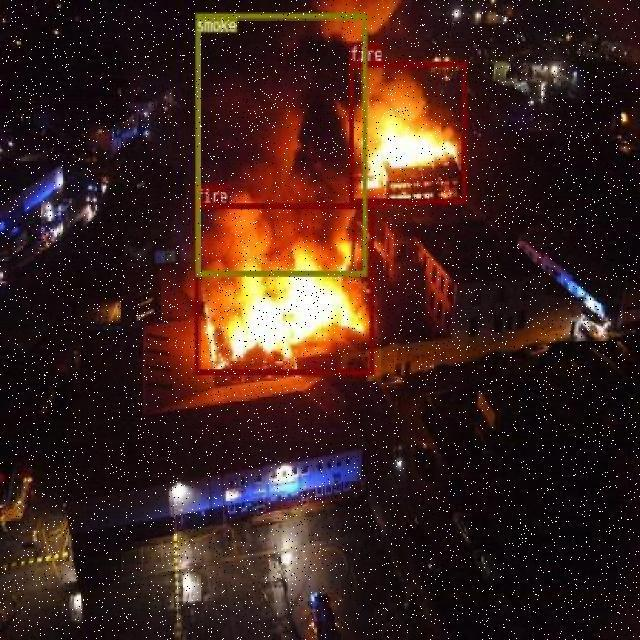Smoke: (226, 0, 334, 205)
